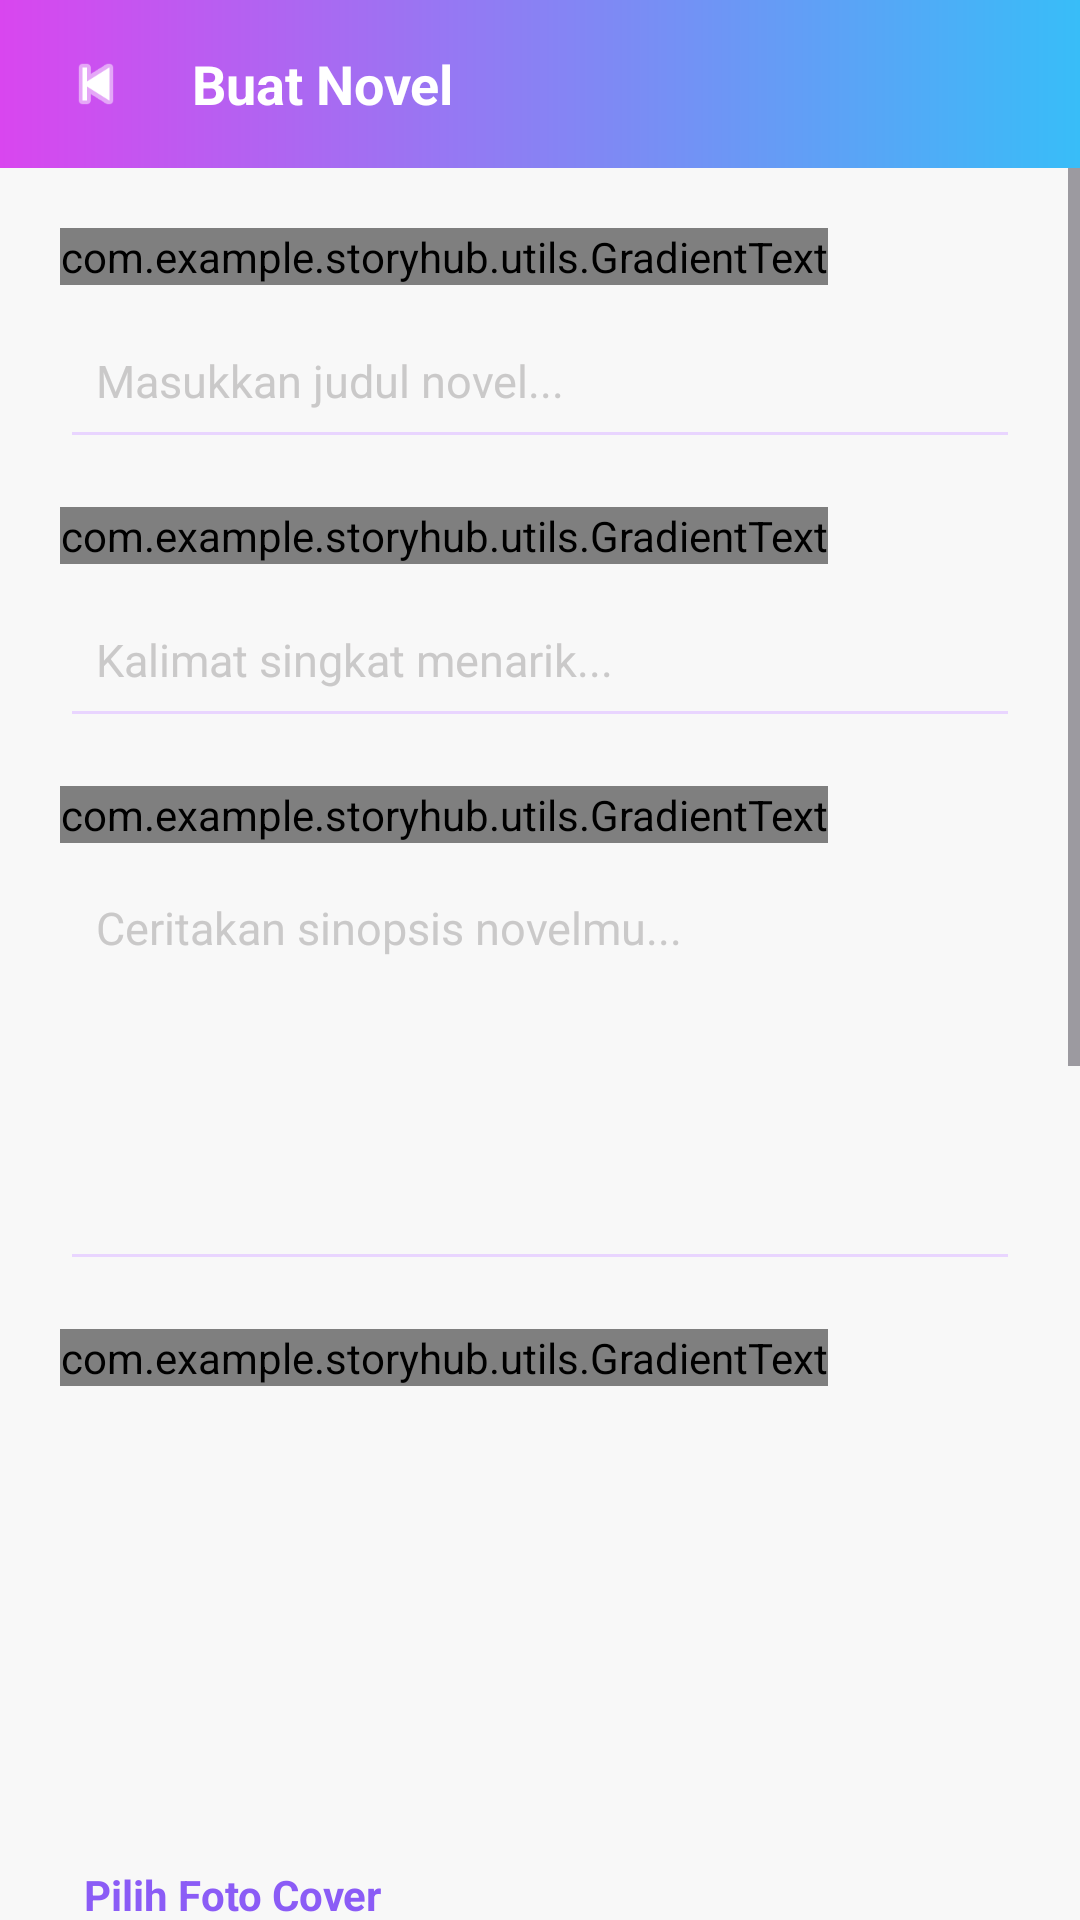

Point at icon controls on the screen. Image size 1080w x 1920h, points as (x,y).
previous: (96,84)
